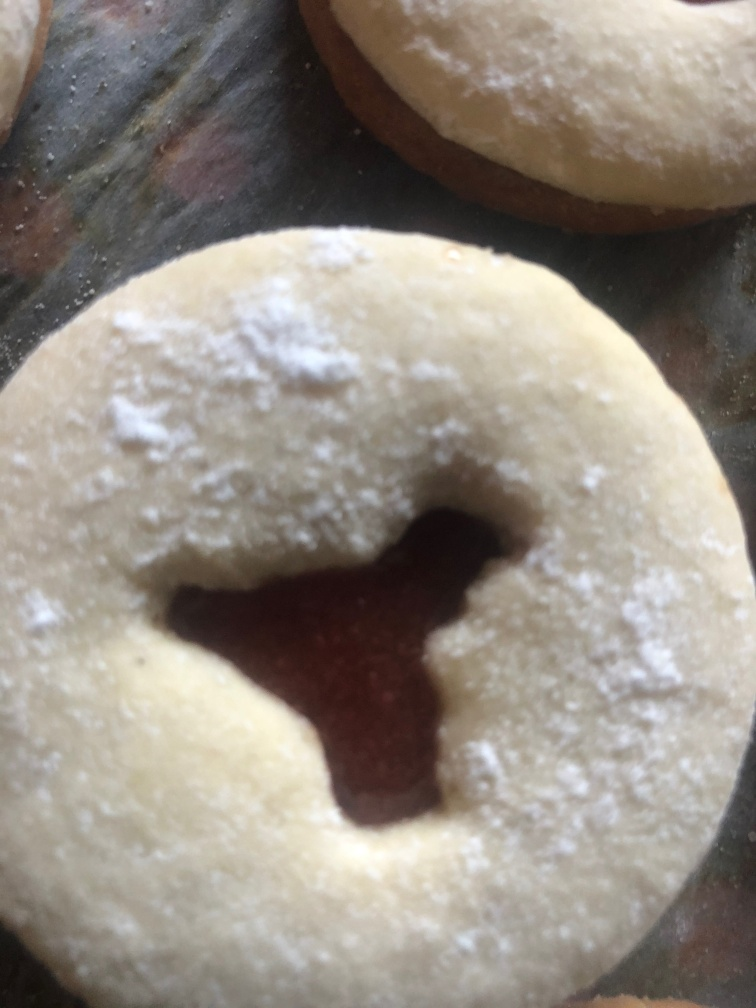christmas shortbread with jam: (4, 222, 756, 1008)
